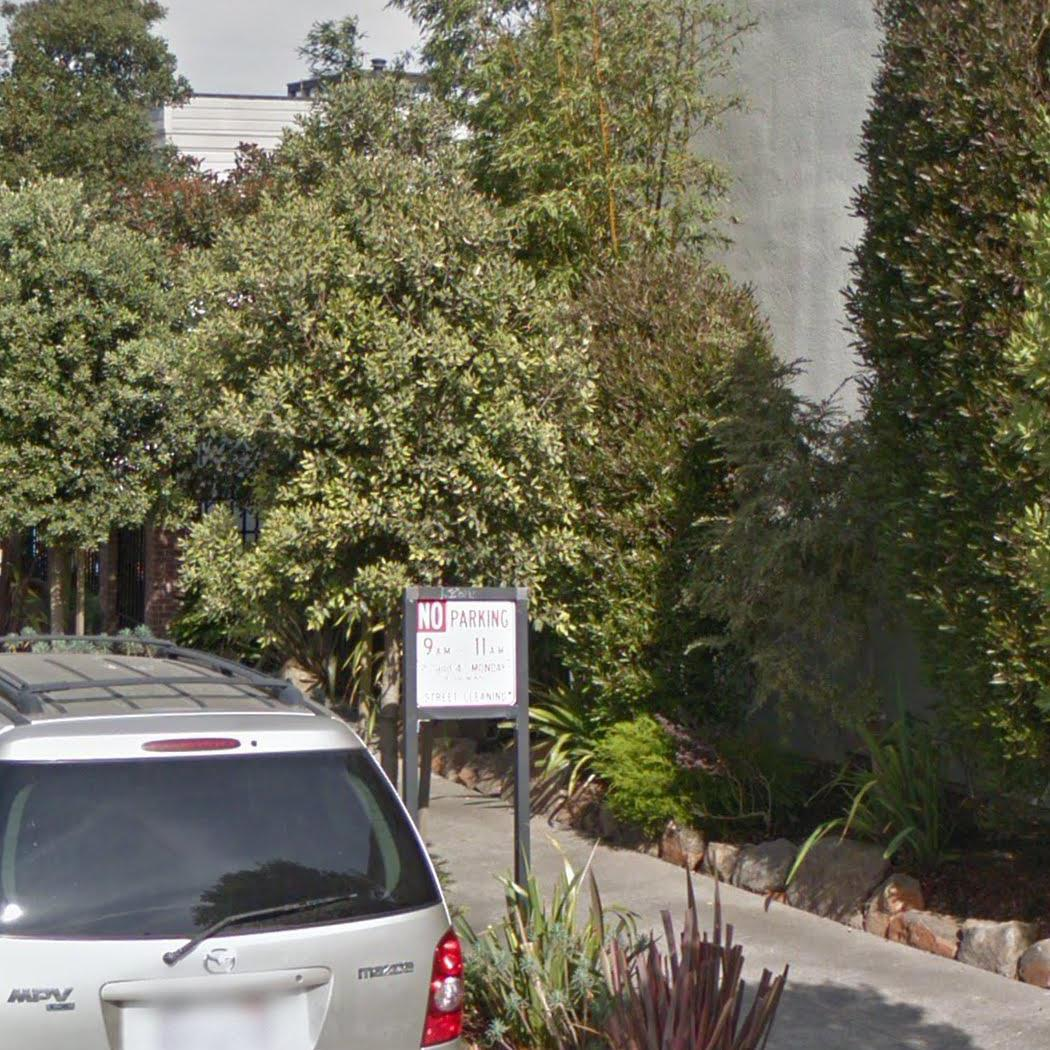No Parking: (413, 601, 521, 709)
